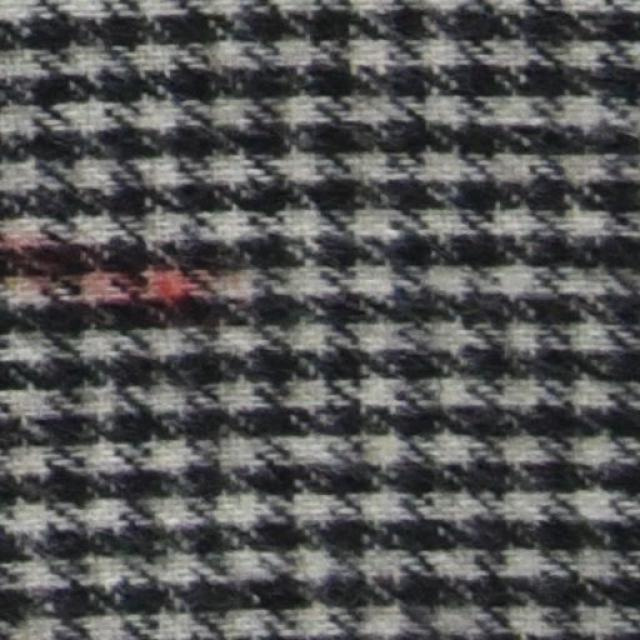Stain: (0, 233, 215, 303)
